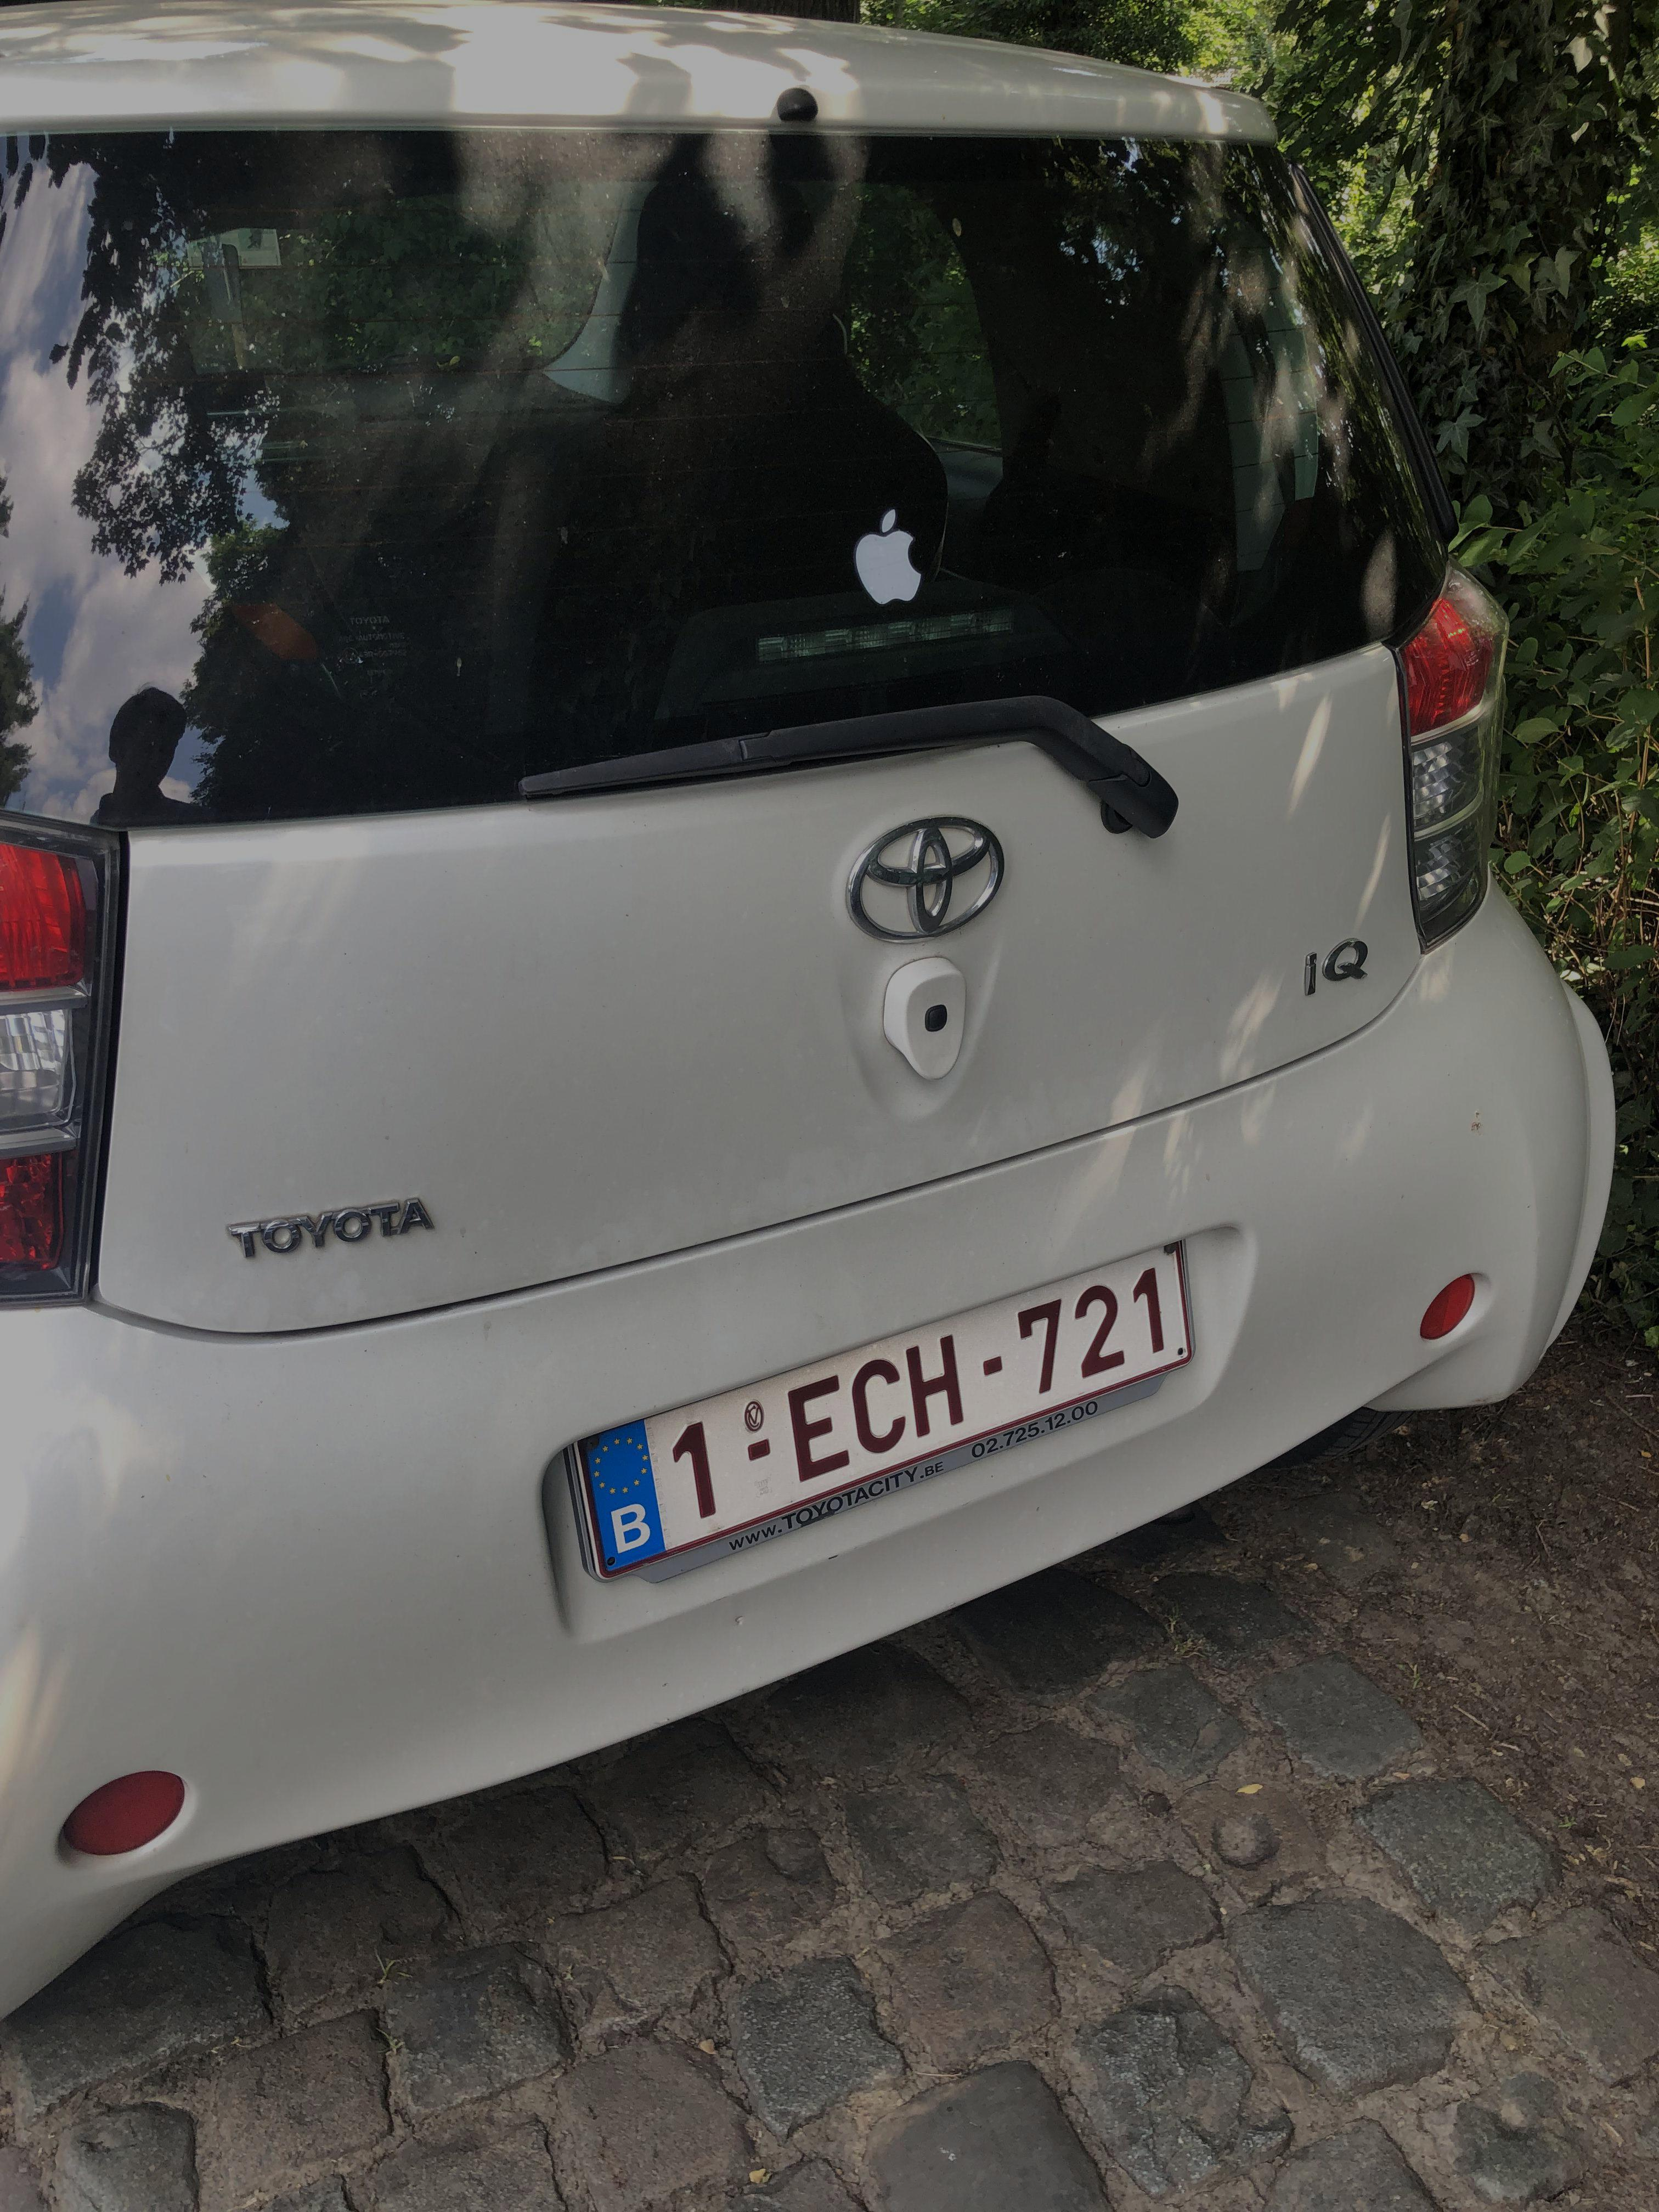plate: (557, 1226, 1202, 1589)
